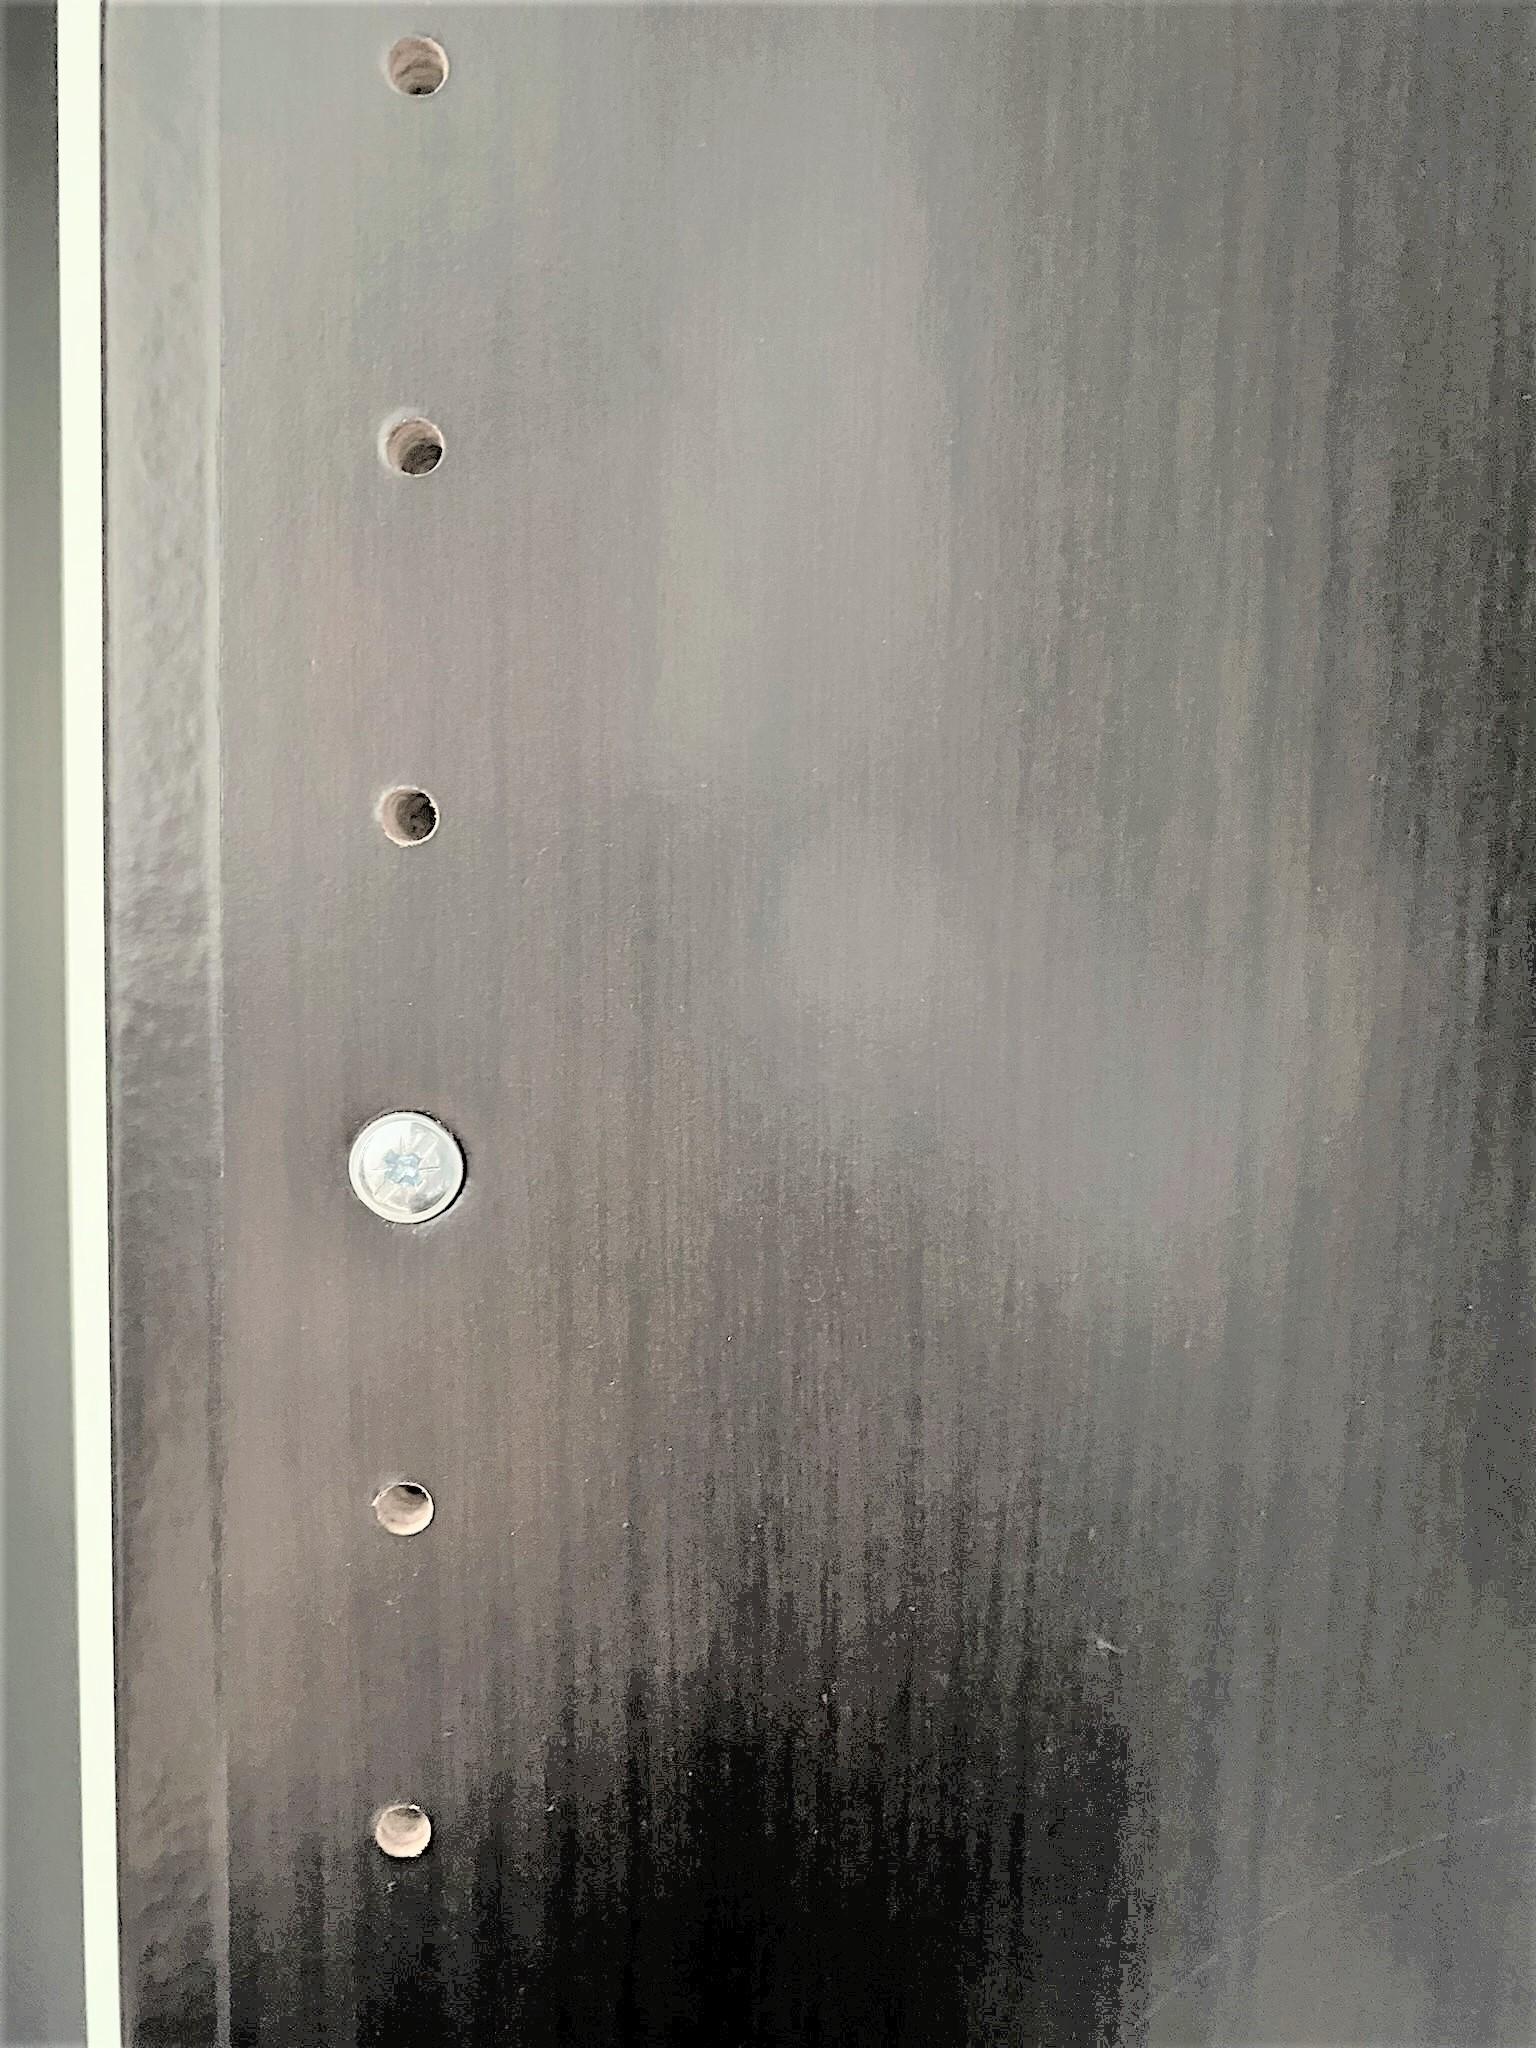PH: (342, 1108, 470, 1229)
